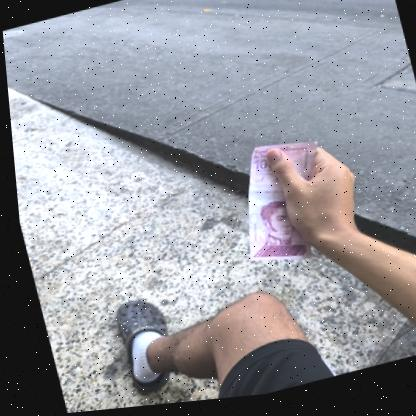one_hundred-front-vef: (219, 135, 341, 278)
